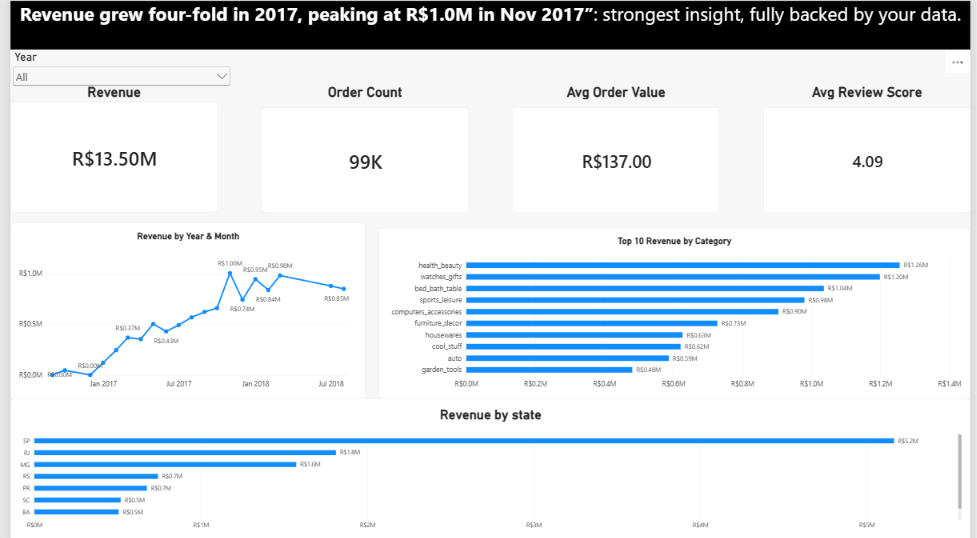

Layout of this report page (visuals, bound fields, positions):
{"tool":"powerbi","page":{"name":"Overview","canvas":[1920,1080],"ordinal":0},"visuals":[{"type":"textbox","box":[0,0,1920,97.5],"z":0},{"type":"slicer","fields":{"Values":["analytics_marts dim_date.year"]},"box":[0,97.5,445,87.5],"z":1000},{"type":"cardVisual","title":"Revenue","fields":{"Data":["analytics_marts agg_monthly_sales.Revenue"]},"box":[0,165,415,257.5],"z":2000,"group":"g1"},{"type":"group","id":"g1","title":"Group 1","box":[0,165,1920,257.5],"z":2000},{"type":"cardVisual","title":"Order Count","fields":{"Data":["analytics_marts agg_monthly_sales.Orders_Count"]},"box":[501.7,165,415,257.5],"z":3000,"group":"g1"},{"type":"lineChart","title":"Revenue by Year & Month","fields":{"Category":["analytics_marts dim_date.MonthStart"],"Y":["analytics_marts agg_monthly_sales.Revenue"]},"box":[0,443.3,710,353.3],"z":3000},{"type":"cardVisual","title":"Avg Order Value","fields":{"Data":["analytics_marts agg_monthly_sales.Avg Order Value"]},"box":[1003.3,165,415,257.5],"z":4000,"group":"g1"},{"type":"barChart","title":"Top 10 Revenue by Category","fields":{"Category":["analytics_marts dim_products.category_name_english"],"Y":["analytics_marts agg_monthly_sales.Revenue"]},"box":[736.7,453.3,1183.3,343.3],"z":4000},{"type":"cardVisual","title":"Avg Review Score","fields":{"Data":["analytics_marts agg_monthly_sales.Avg Review Score"]},"box":[1505,165,415,257.5],"z":5000,"group":"g1"},{"type":"barChart","title":"Revenue by state","fields":{"Category":["analytics_marts dim_customers.state"],"Y":["analytics_marts agg_monthly_sales.Revenue"]},"box":[0,796.7,1920,283.3],"z":5000}]}

Visuals, with their boxes in screenshot pixels (x1, y1, x2, y2), scaled from the page's 1920x1080 canvas onto the 977x538 screenshot:
textbox: 0 0 976 49
slicer - analytics_marts dim_date.year: 0 49 226 92
"Revenue" cardVisual: 0 82 211 210
"Group 1" group: 0 82 976 210
"Order Count" cardVisual: 255 82 466 210
"Revenue by Year & Month" lineChart: 0 221 361 397
"Avg Order Value" cardVisual: 511 82 722 210
"Top 10 Revenue by Category" barChart: 375 226 976 397
"Avg Review Score" cardVisual: 766 82 976 210
"Revenue by state" barChart: 0 397 976 537
